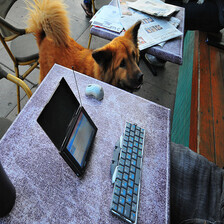laptop: (35, 74, 151, 222)
